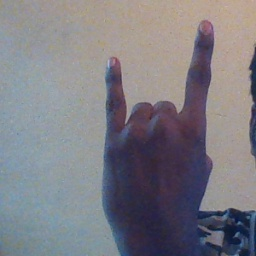V: (98, 17, 223, 227)
